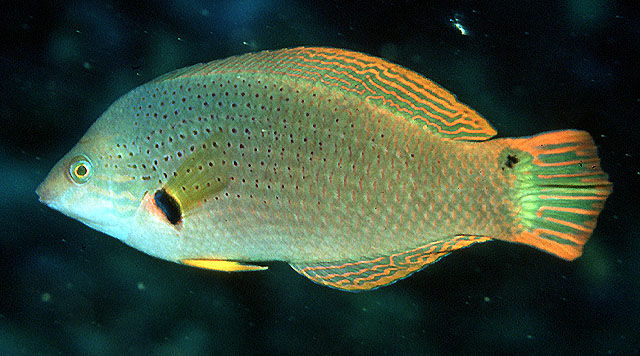fish: (35, 46, 613, 293)
